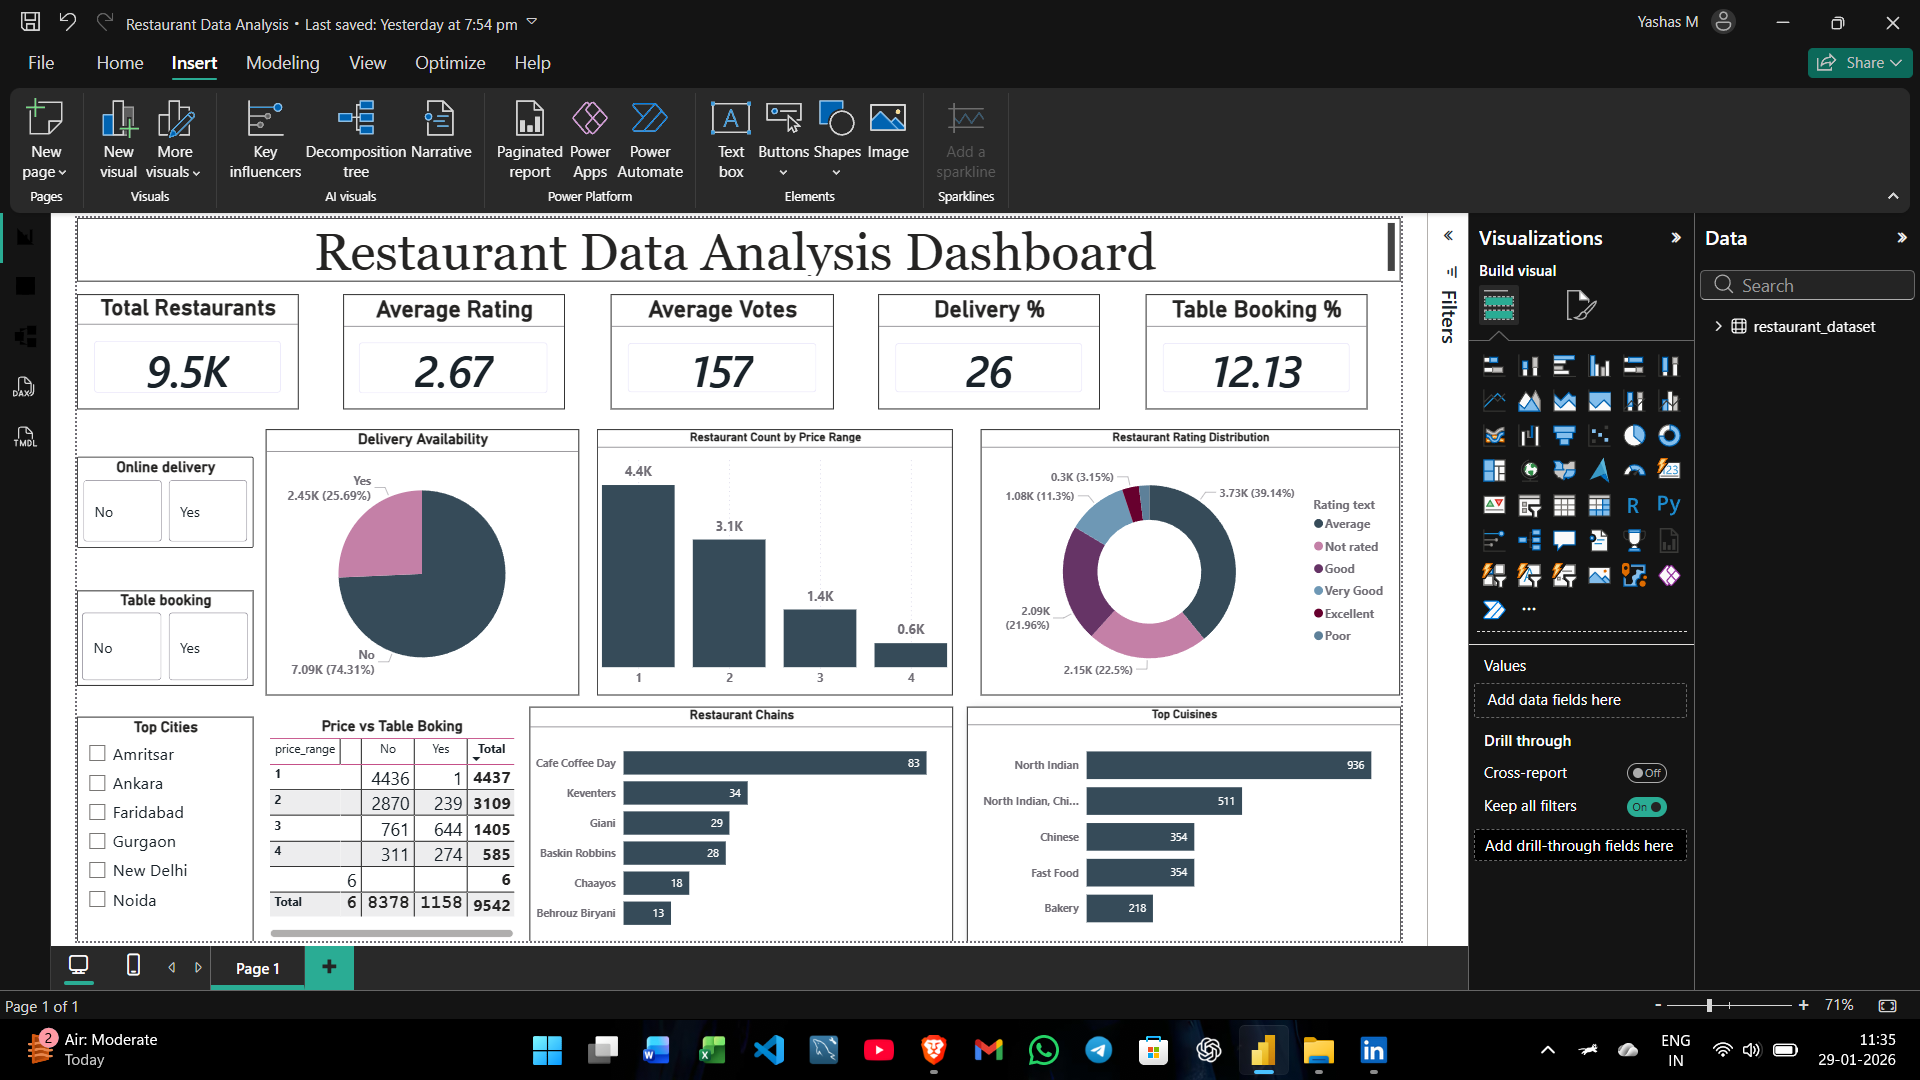

What the dashboard file says about the page in this screenshot:
{"tool":"powerbi","page":{"name":"Page 1","canvas":[1500,820],"ordinal":0},"visuals":[{"type":"textbox","box":[0,0,1500,71.7],"z":0},{"type":"cardVisual","title":"Total Restaurants","fields":{"Data":["restaurant_dataset.Total Restaurants"]},"box":[0,86.2,250.9,130.3],"z":1000},{"type":"cardVisual","title":"Average Rating","fields":{"Data":["restaurant_dataset.Avg Rating"]},"box":[302.3,86.2,250.9,130.3],"z":2000},{"type":"cardVisual","title":"Average Votes","fields":{"Data":["Avg(restaurant_dataset.Votes)"]},"box":[604.6,86.2,252.5,130.3],"z":3000},{"type":"cardVisual","title":"Delivery %","fields":{"Data":["restaurant_dataset.Delivery %"]},"box":[908.6,86.2,250.9,130.3],"z":4000},{"type":"cardVisual","title":"Table Booking %","fields":{"Data":["restaurant_dataset.Table Booking %"]},"box":[1210.9,86.2,250.9,130.3],"z":5000},{"type":"clusteredBarChart","title":"Top Cuisines","fields":{"Category":["restaurant_dataset.Cuisines"],"Y":["CountNonNull(restaurant_dataset.restaurant_id)"]},"box":[1008.3,553.3,491.7,266.7],"z":6000},{"type":"barChart","title":"Restaurant Chains","fields":{"Category":["restaurant_dataset.Restaurant Name"],"Y":["CountNonNull(restaurant_dataset.restaurant_id)"]},"box":[513.3,553.3,480,266.7],"z":7000},{"type":"pieChart","title":"Delivery Availability","fields":{"Category":["restaurant_dataset.Has Online delivery"],"Y":["CountNonNull(restaurant_dataset.restaurant_id)"]},"box":[213.3,240,355,301.7],"z":8000},{"type":"advancedSlicerVisual","title":" Online delivery","fields":{"Values":["restaurant_dataset.Has Online delivery"]},"box":[0,270,200,103.3],"z":9000},{"type":"advancedSlicerVisual","title":"Table booking","fields":{"Values":["restaurant_dataset.Has Table booking"]},"box":[0,421.7,200,108.3],"z":10000},{"type":"clusteredColumnChart","title":"Restaurant Count by Price Range","fields":{"Category":["restaurant_dataset.price_range"],"Y":["CountNonNull(restaurant_dataset.restaurant_id)"]},"box":[590,240,403.3,301.7],"z":11000},{"type":"donutChart","title":"Restaurant Rating Distribution","fields":{"Category":["restaurant_dataset.Rating text"],"Y":["CountNonNull(restaurant_dataset.restaurant_id)"]},"box":[1024.3,240.8,476,301.8],"z":12000},{"type":"pivotTable","title":"Price vs Table Boking","fields":{"Rows":["restaurant_dataset.price_range"],"Columns":["restaurant_dataset.Has Table booking"],"Values":["CountNonNull(restaurant_dataset.restaurant_id)"]},"box":[213.3,565,286.7,255],"z":13000},{"type":"slicer","title":" Top Cities","fields":{"Values":["restaurant_dataset.City"]},"box":[0,565,200,255],"z":14000}]}

Visuals, with their boxes on the page's 1500x820 design canvas (x1, y1, x2, y2). These are canvas units, not pixel positions in the 1920x1080 screenshot, which may show the page scaled, cropped or inside an application window:
textbox: (x1=0, y1=0, x2=1500, y2=72)
"Total Restaurants" cardVisual: (x1=0, y1=86, x2=251, y2=216)
"Average Rating" cardVisual: (x1=302, y1=86, x2=553, y2=216)
"Average Votes" cardVisual: (x1=605, y1=86, x2=857, y2=216)
"Delivery %" cardVisual: (x1=909, y1=86, x2=1160, y2=216)
"Table Booking %" cardVisual: (x1=1211, y1=86, x2=1462, y2=216)
"Top Cuisines" clusteredBarChart: (x1=1008, y1=553, x2=1500, y2=820)
"Restaurant Chains" barChart: (x1=513, y1=553, x2=993, y2=820)
"Delivery Availability" pieChart: (x1=213, y1=240, x2=568, y2=542)
" Online delivery" advancedSlicerVisual: (x1=0, y1=270, x2=200, y2=373)
"Table booking" advancedSlicerVisual: (x1=0, y1=422, x2=200, y2=530)
"Restaurant Count by Price Range" clusteredColumnChart: (x1=590, y1=240, x2=993, y2=542)
"Restaurant Rating Distribution" donutChart: (x1=1024, y1=241, x2=1500, y2=543)
"Price vs Table Boking" pivotTable: (x1=213, y1=565, x2=500, y2=820)
" Top Cities" slicer: (x1=0, y1=565, x2=200, y2=820)
